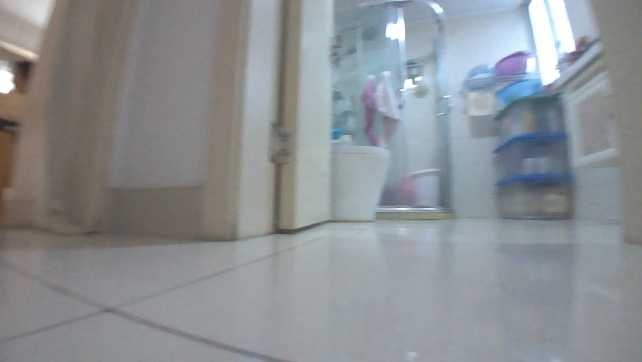door_anno: (204, 0, 331, 239)
toilet_part: (327, 140, 389, 225)
